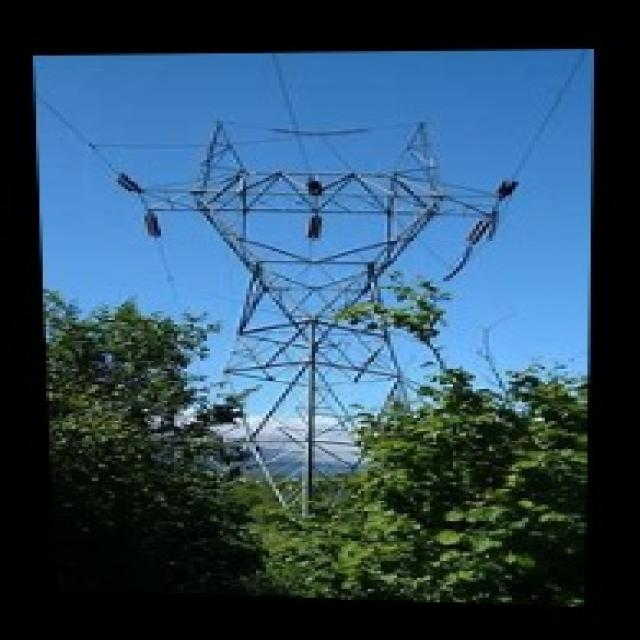utility poles: (336, 283, 529, 470), (110, 286, 269, 472)
